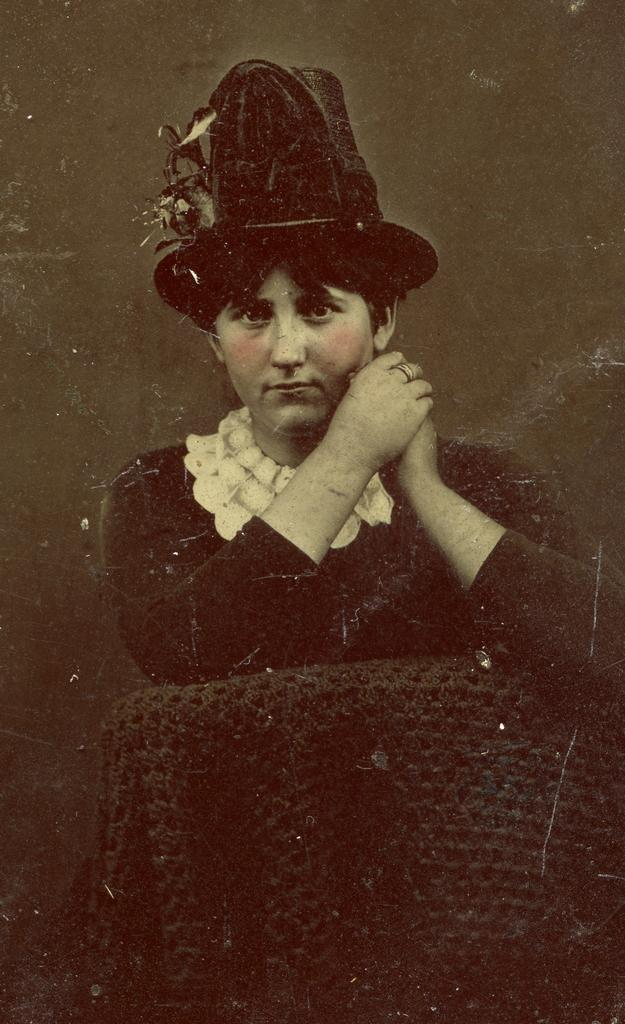Hat: (147, 61, 443, 337)
